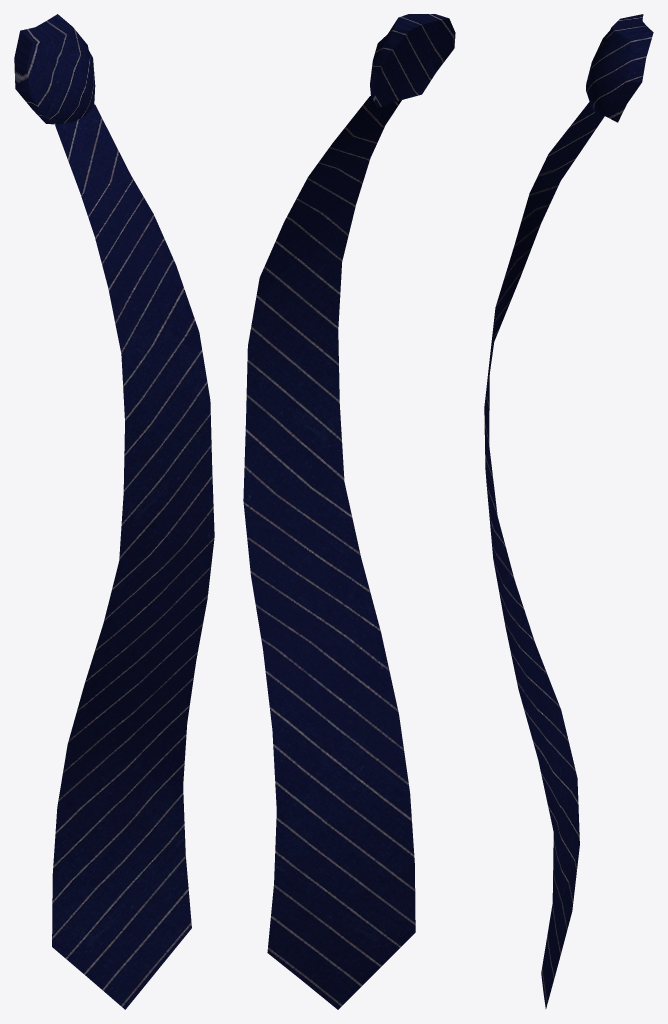
The model's file is Pose-2_SuitTie-4.fbx.
3 renders of one model, left to right at view 1: azimuth 30°, elevation 25°; view 2: azimuth 210°, elevation 25°; view 3: azimuth 270°, elevation 25°, orthographic. The views are drawn at different scales.
Visible parts, largest first — view 1: Pose-2_SuitTie-4; view 2: Pose-2_SuitTie-4; view 3: Pose-2_SuitTie-4.
Part boxes in pixels (bbox=[...]): Pose-2_SuitTie-4: bbox=[14, 14, 214, 1009]; Pose-2_SuitTie-4: bbox=[243, 14, 455, 1009]; Pose-2_SuitTie-4: bbox=[484, 14, 653, 1008].
Bounding box in the file's own units: 7.69 × 50.37 × 7.96.
